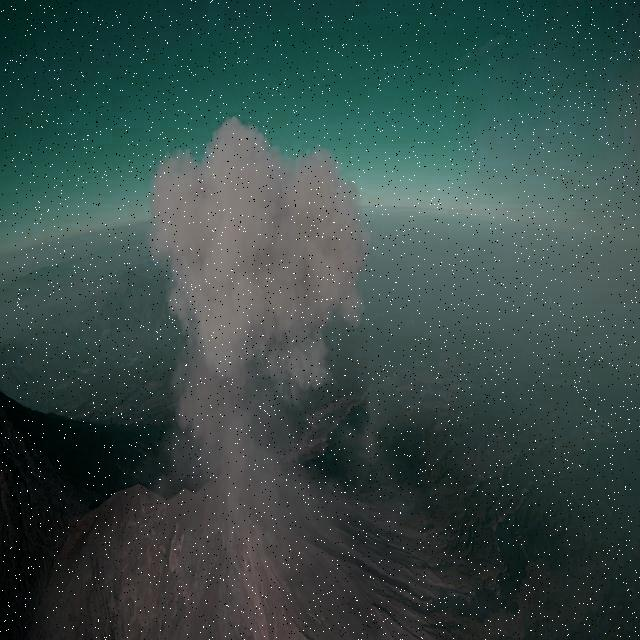Plume: (144, 108, 376, 398)
